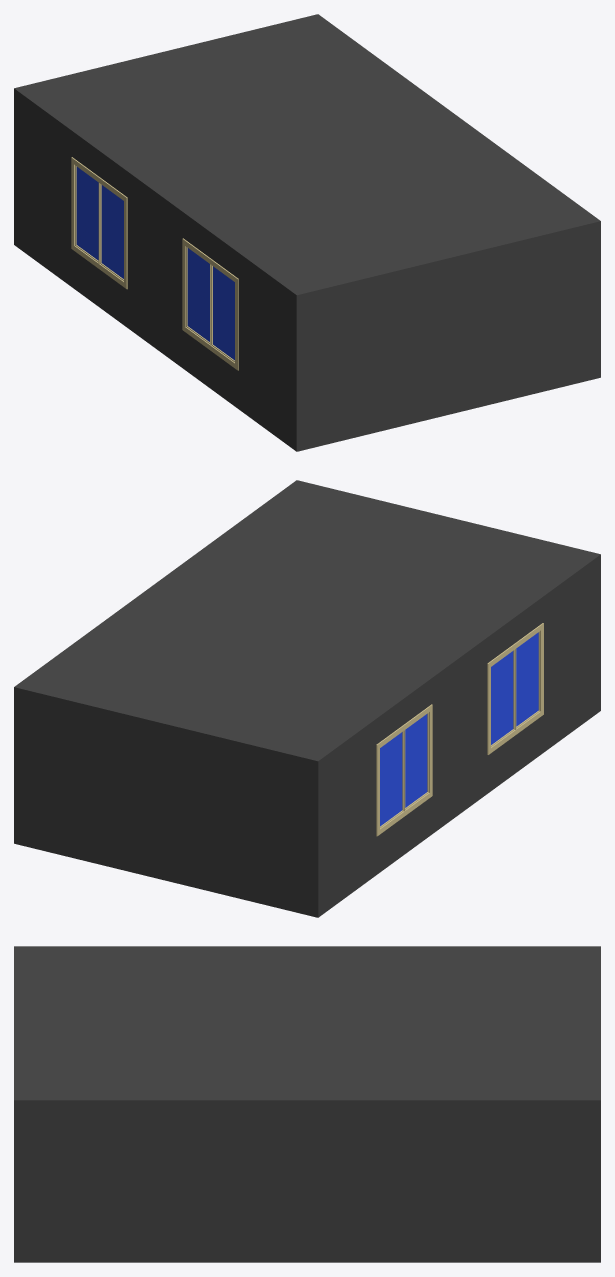
The model's file is Room.fbx.
3 views of the same model, one above another, from view 1: azimuth 30°, elevation 25°; view 2: azimuth 150°, elevation 25°; view 3: azimuth 270°, elevation 25° (orthographic). The views are drawn at different scales.
Visible parts, largest first — view 1: Layer, Windows; view 2: Layer, Windows; view 3: Layer.
Part boxes in pixels (x1=…): Layer: x1=14, y1=14, x2=600, y2=451; Windows: x1=71, y1=157, x2=238, y2=370; Layer: x1=14, y1=480, x2=600, y2=917; Windows: x1=376, y1=623, x2=543, y2=836; Layer: x1=14, y1=946, x2=600, y2=1262.
Size of the model in its own units: 635 by 311 by 1019.
